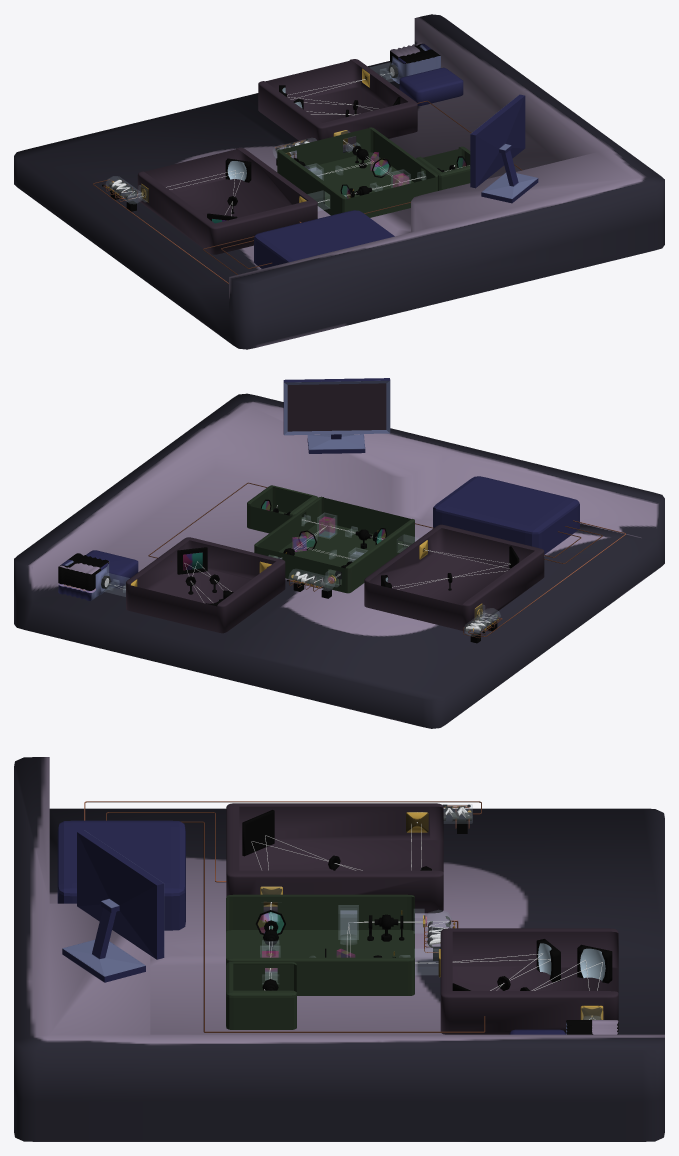
The model's file is spectrofluorometerModel.glb.
The picture shows the model from 3 angles, top to bottom: view 1: azimuth 30°, elevation 25°; view 2: azimuth 150°, elevation 25°; view 3: azimuth 270°, elevation 25°; orthographic projection. The views are drawn at different scales.
Parts seen in each view (by area): view 1: specBase, EmissionMono, ExciMonoBase, SampleChamberBase, MonoCompBase, PC, LightSourcePowerSupplyBase, TSideEmissionChannelBase, LightSourceBaseLid, LightSourceBase; view 2: specBase, EmissionMono, ExciMonoBase, SampleChamberBase, MonoCompBase, PCScreen, PC, TSideEmissionChannelBase, LightSourceBaseLid, LightSourcePowerSupplyBase, DiffractionGrating1, LightSourceBase; view 3: specBase, EmissionMono, SampleChamberBase, ExciMonoBase, PC, MonoCompBase, TSideEmissionChannelBase, DiffractionGrating2, BaseCircuit3, BaseCircuit1, LightSourceBaseLid, CollimatingMirror1Mirror (+2 smaller).
Boxes of the visible parts, x1,y1,x2,y2 form: specBase: [14, 14, 664, 349]; EmissionMono: [137, 147, 317, 254]; ExciMonoBase: [258, 59, 417, 149]; SampleChamberBase: [277, 127, 437, 217]; MonoCompBase: [254, 210, 394, 268]; PC: [470, 94, 538, 203]; LightSourcePowerSupplyBase: [399, 67, 463, 105]; TSideEmissionChannelBase: [416, 146, 470, 190]; LightSourceBaseLid: [390, 42, 440, 65]; LightSourceBase: [390, 56, 440, 83]; specBase: [14, 393, 664, 728]; EmissionMono: [364, 524, 544, 631]; ExciMonoBase: [126, 537, 285, 633]; SampleChamberBase: [254, 496, 414, 593]; MonoCompBase: [433, 476, 579, 554]; PCScreen: [287, 383, 386, 431]; PC: [283, 378, 390, 453]; TSideEmissionChannelBase: [247, 485, 318, 533]; LightSourceBaseLid: [58, 553, 108, 590]; LightSourcePowerSupplyBase: [86, 550, 138, 588]; DiffractionGrating1: [177, 547, 207, 574]; LightSourceBase: [58, 562, 109, 600]; specBase: [14, 757, 664, 1141]; EmissionMono: [226, 803, 443, 913]; SampleChamberBase: [226, 894, 414, 995]; ExciMonoBase: [440, 928, 618, 1034]; PC: [62, 830, 164, 982]; MonoCompBase: [57, 820, 185, 930]; TSideEmissionChannelBase: [226, 962, 296, 1029]; DiffractionGrating2: [242, 810, 274, 856]; BaseCircuit3: [181, 821, 485, 1032]; BaseCircuit1: [84, 801, 481, 820]; LightSourceBaseLid: [566, 1020, 618, 1034]; CollimatingMirror1Mirror: [580, 948, 605, 981].
Size of the model in its own units: 16 by 4.9 by 15.
Materials: 14 (7 with a texture image).
